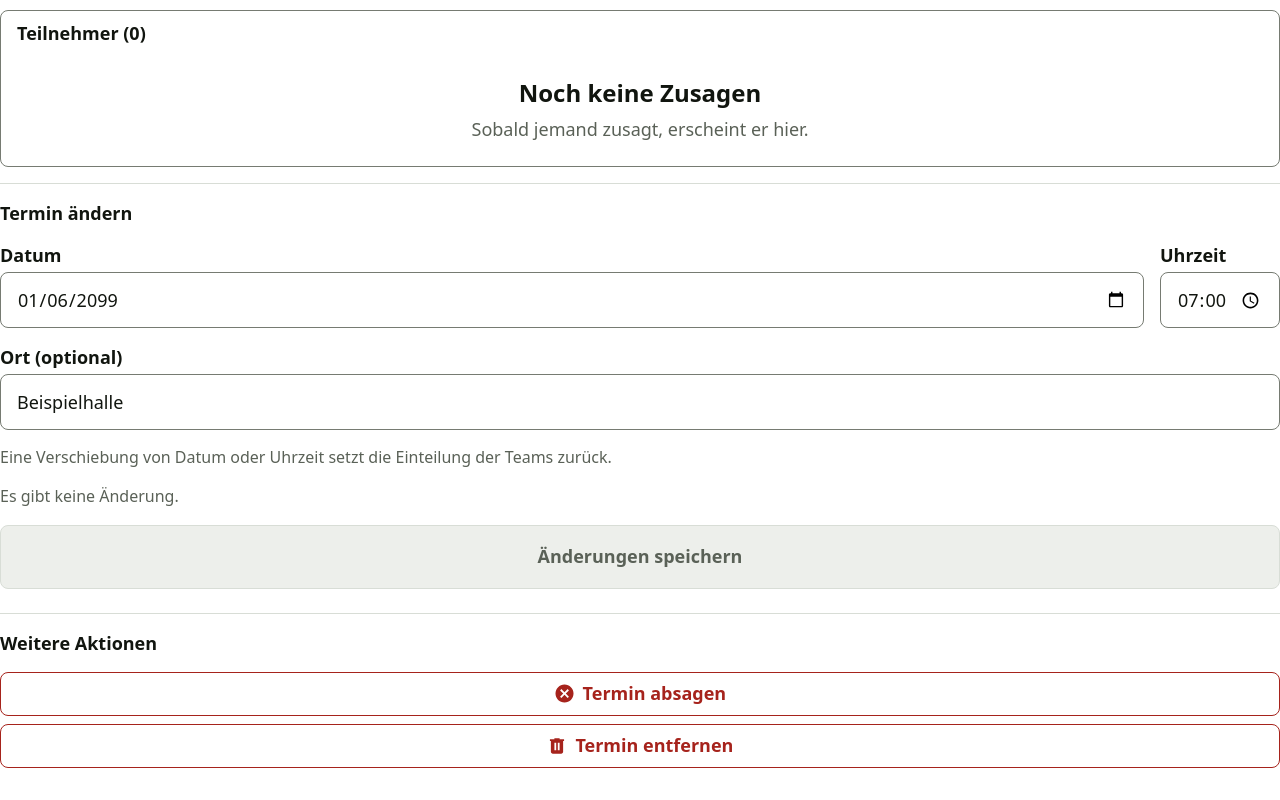
AdminTerminDetail – Weitere Aktionen › „Abbrechen“ schließt den Dialog, ohne etwas zu senden
(page scrolled)
Click the button with test id "admin-termin-absagen" at (640, 694), box [0,672,1279,716]
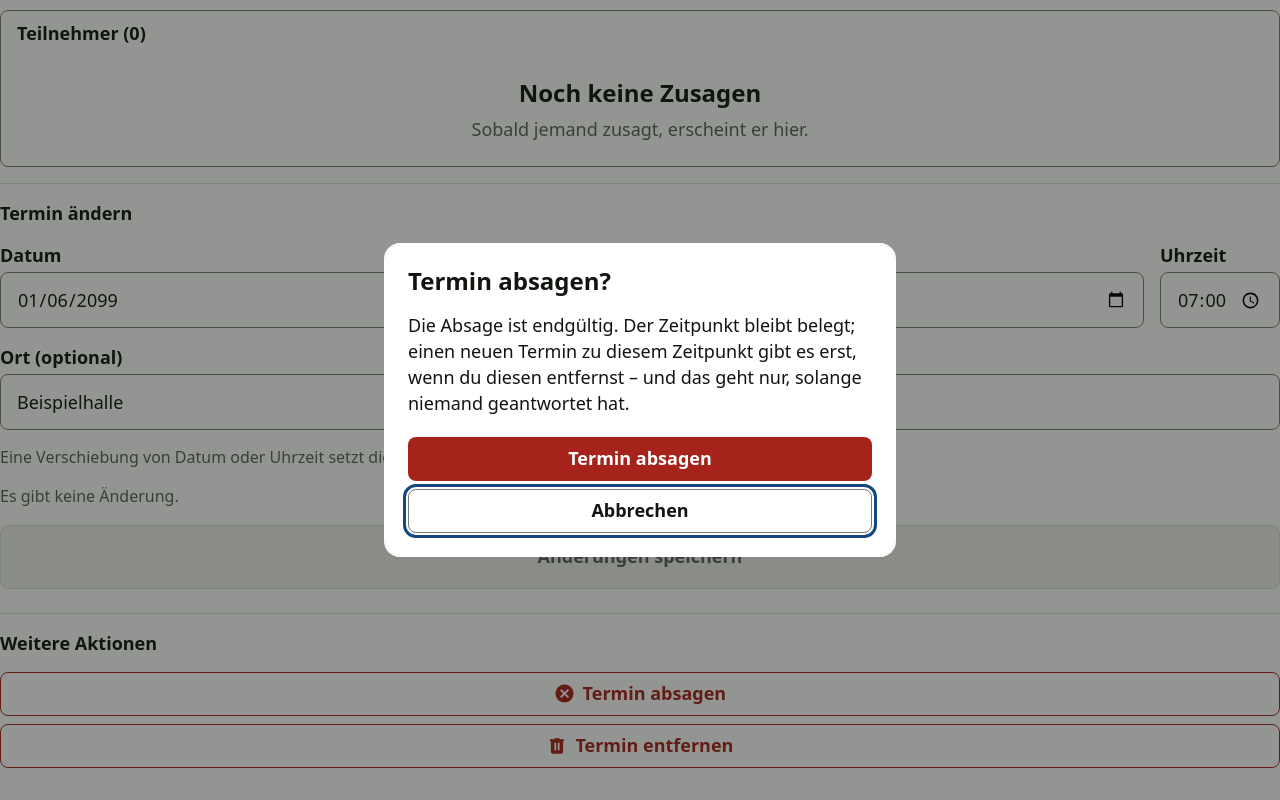
Click the button with test id "admin-absagen-dialog-abbrechen" at (640, 511), box [408,489,872,533]
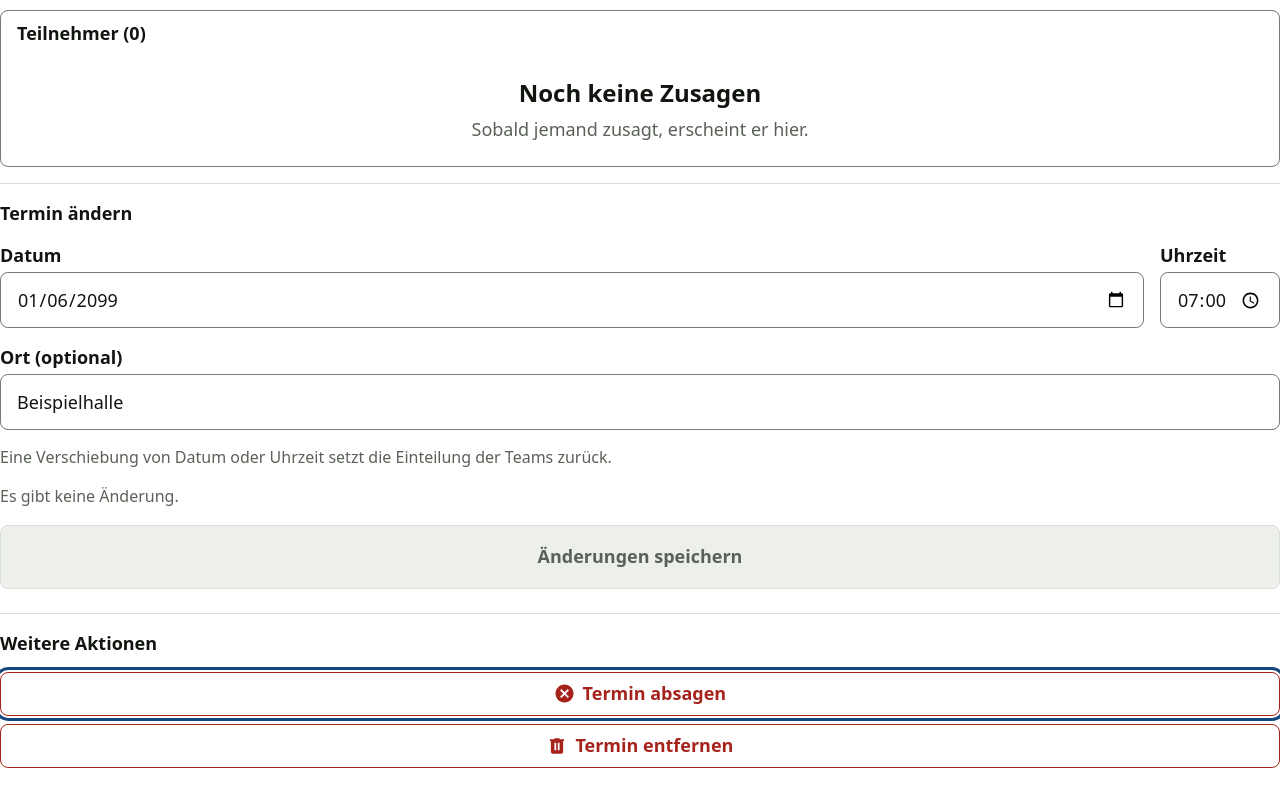
Result: the dialog with test id "admin-absagen-dialog" is gone
